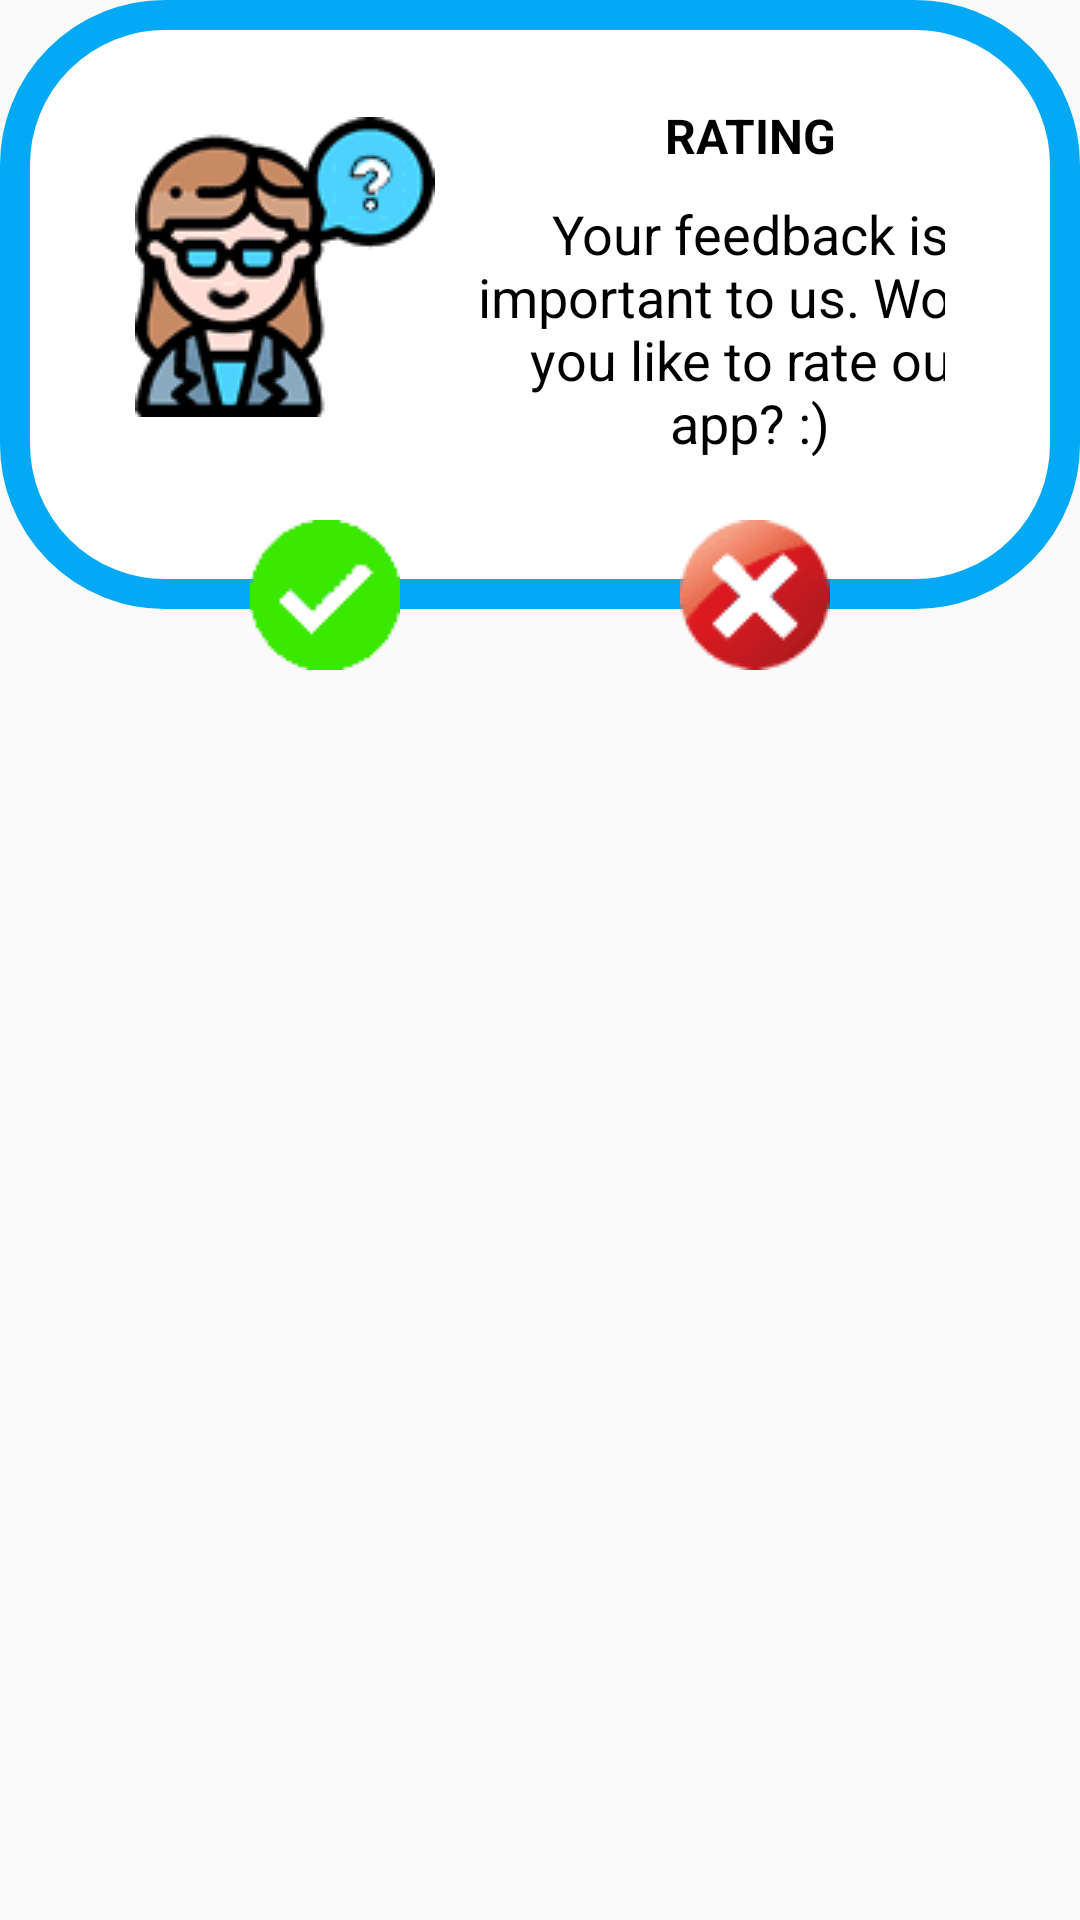

Named icons in this screenshot (1080 x 1920) and their bounding boxes, bbox=[x1, y1, x2, y2]:
question: bbox=[135, 117, 435, 417]
